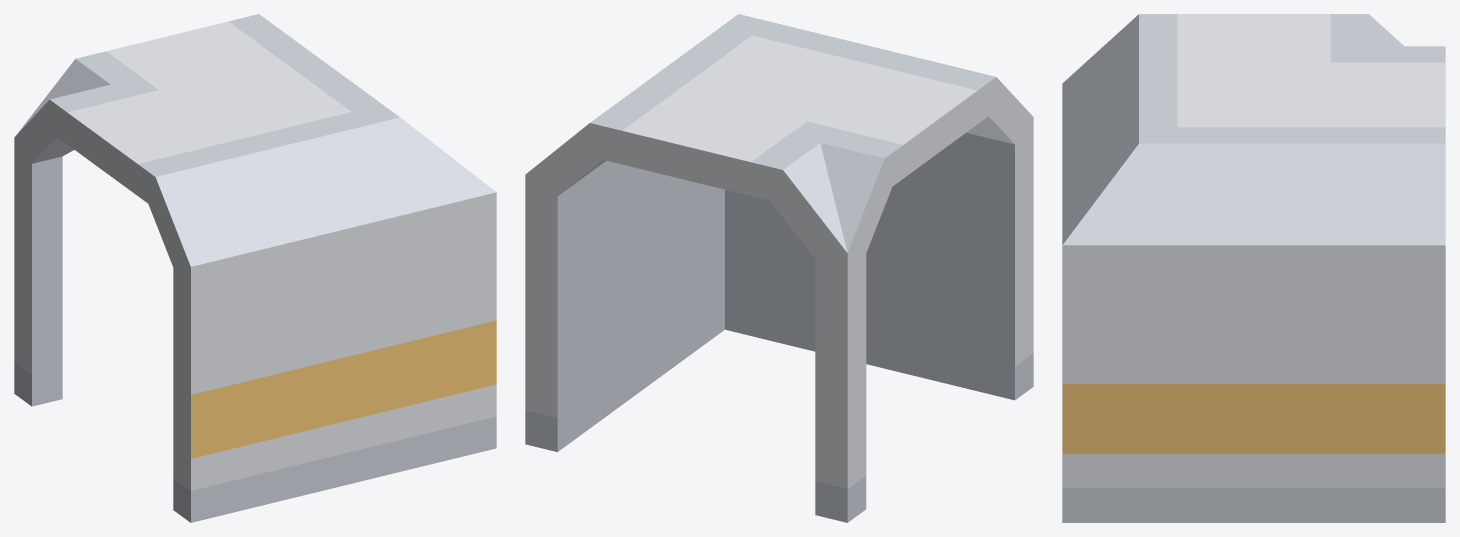
Rendered from corridor_corner.glb.
3 views of the same model, side by side, from view 1: azimuth 30°, elevation 25°; view 2: azimuth 150°, elevation 25°; view 3: azimuth 270°, elevation 25° (orthographic). The views are drawn at different scales.
Visible parts, largest first — view 1: corridor_corner; view 2: corridor_corner; view 3: corridor_corner.
Boxes of the visible parts, x1,y1,x2,y2 form: corridor_corner: (14,14,496,522); corridor_corner: (525,14,1033,522); corridor_corner: (1062,14,1445,522).
Bounding box in the file's own units: 1 × 1 × 1.
